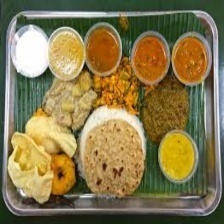dal: (157, 131, 202, 182)
